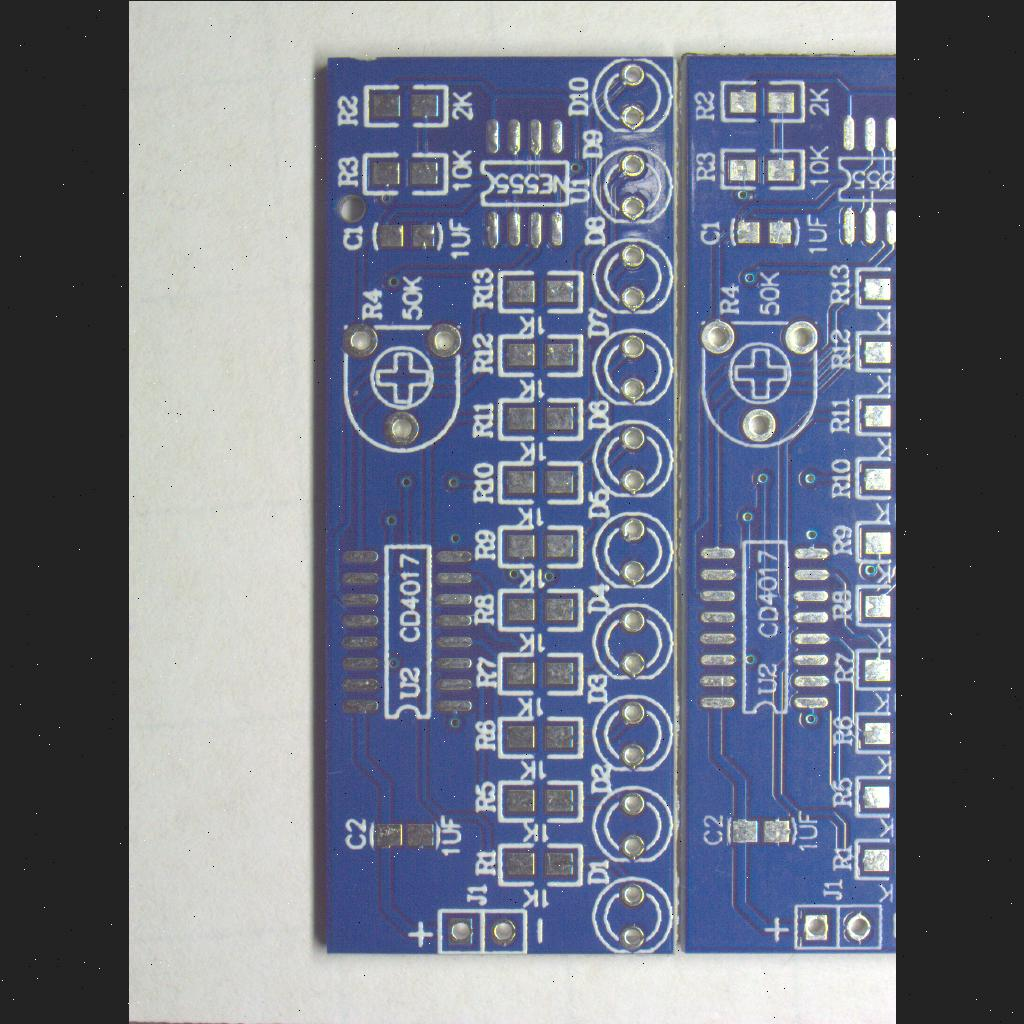NG: (688, 528, 844, 728), (330, 534, 488, 722), (470, 106, 578, 254), (356, 144, 454, 200), (490, 518, 590, 572), (492, 328, 588, 382), (492, 264, 588, 318), (358, 78, 456, 130), (492, 710, 588, 762), (492, 646, 588, 698), (493, 455, 589, 507), (493, 582, 587, 634), (715, 143, 811, 193), (494, 840, 586, 890), (494, 394, 586, 444), (493, 776, 587, 824), (716, 77, 808, 125), (363, 808, 451, 856), (720, 806, 806, 852), (366, 210, 448, 256), (724, 210, 808, 252)
